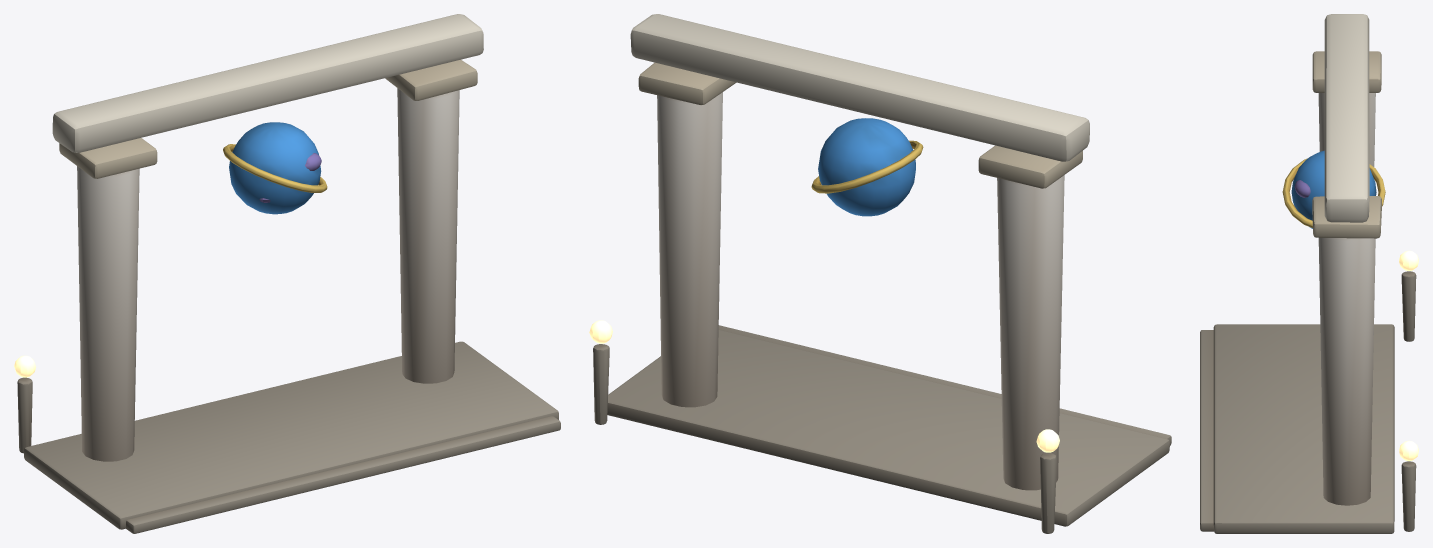
The picture shows the model from 3 angles, left to right: view 1: azimuth 30°, elevation 25°; view 2: azimuth 150°, elevation 25°; view 3: azimuth 270°, elevation 25°; orthographic projection. The views are drawn at different scales.
Visible parts, largest first — view 1: gate_7e0a3040; view 2: gate_7e0a3040; view 3: gate_7e0a3040.
Boxes of the visible parts, left/top/right/bottom form: gate_7e0a3040: left=14, top=14, right=560, bottom=533; gate_7e0a3040: left=589, top=14, right=1171, bottom=533; gate_7e0a3040: left=1200, top=14, right=1418, bottom=533.
Size of the model in its own units: 5.49 by 4.25 by 2.54.
